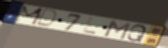7: (65, 13, 83, 32)
D: (35, 8, 60, 29)
L: (81, 16, 97, 36)
M: (13, 5, 46, 27), (103, 19, 133, 41)
Q: (126, 24, 148, 43)
